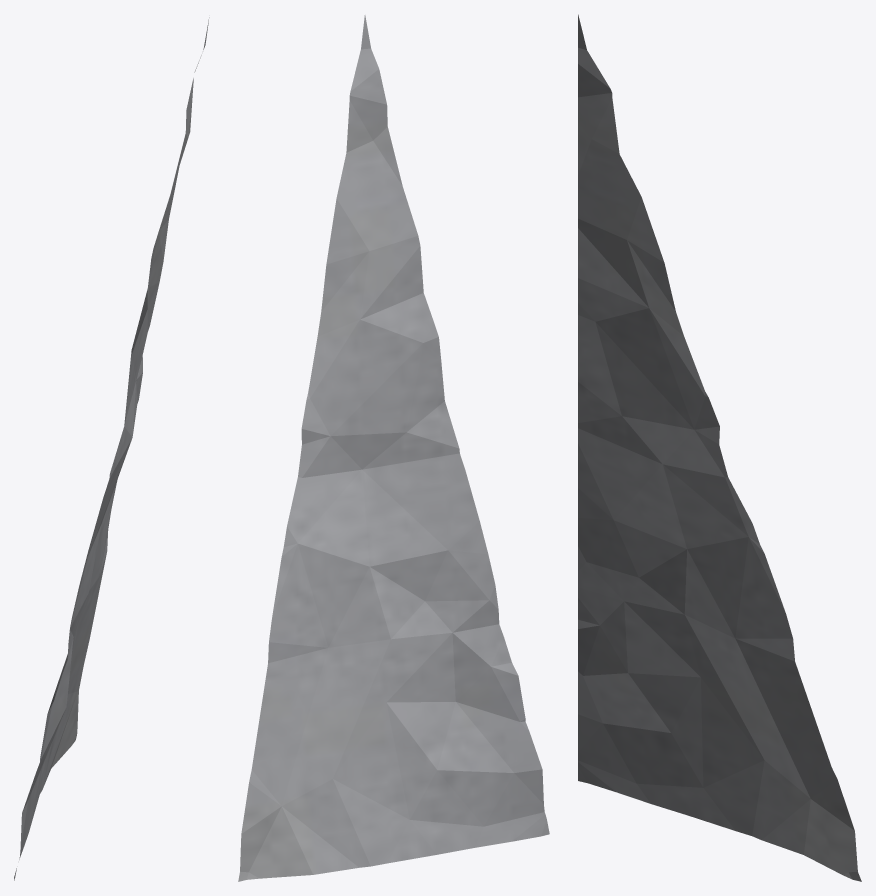
The picture shows the model from 3 angles, left to right: view 1: azimuth 30°, elevation 25°; view 2: azimuth 150°, elevation 25°; view 3: azimuth 270°, elevation 25°; orthographic projection. The views are drawn at different scales.
Bounding box in the file's own units: 0.1287 × 0.5158 × 0.1529.
1 material, 1 textured.
